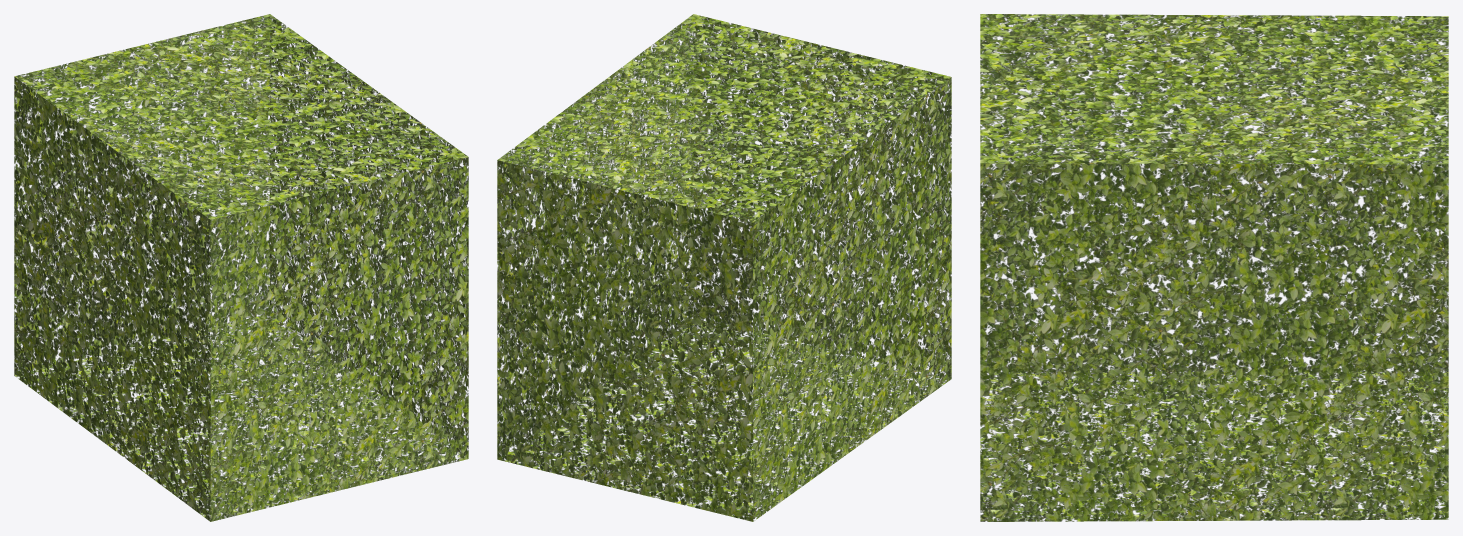
The picture shows the model from 3 angles, left to right: view 1: azimuth 30°, elevation 25°; view 2: azimuth 150°, elevation 25°; view 3: azimuth 270°, elevation 25°; orthographic projection. The views are drawn at different scales.
Visible parts, largest first — view 1: pCube1; view 2: pCube1; view 3: pCube1.
Boxes of the visible parts, x1=… form: pCube1: x1=14, y1=14, x2=468, y2=521; pCube1: x1=497, y1=14, x2=951, y2=521; pCube1: x1=980, y1=14, x2=1448, y2=521.
Bounding box in the file's own units: 5.31 × 5.94 × 7.04.
